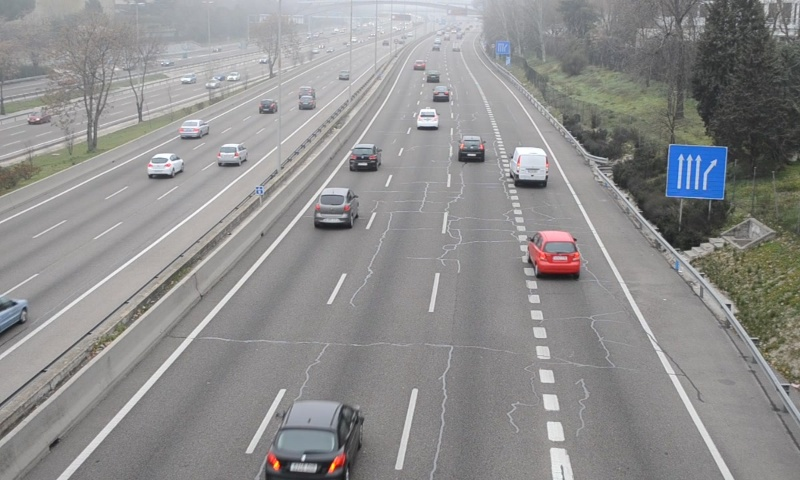car: (266, 400, 364, 480), (528, 229, 580, 274), (313, 187, 358, 224), (350, 143, 382, 169), (458, 134, 484, 161), (415, 106, 440, 130), (433, 84, 450, 101)
van: (510, 146, 550, 184)
